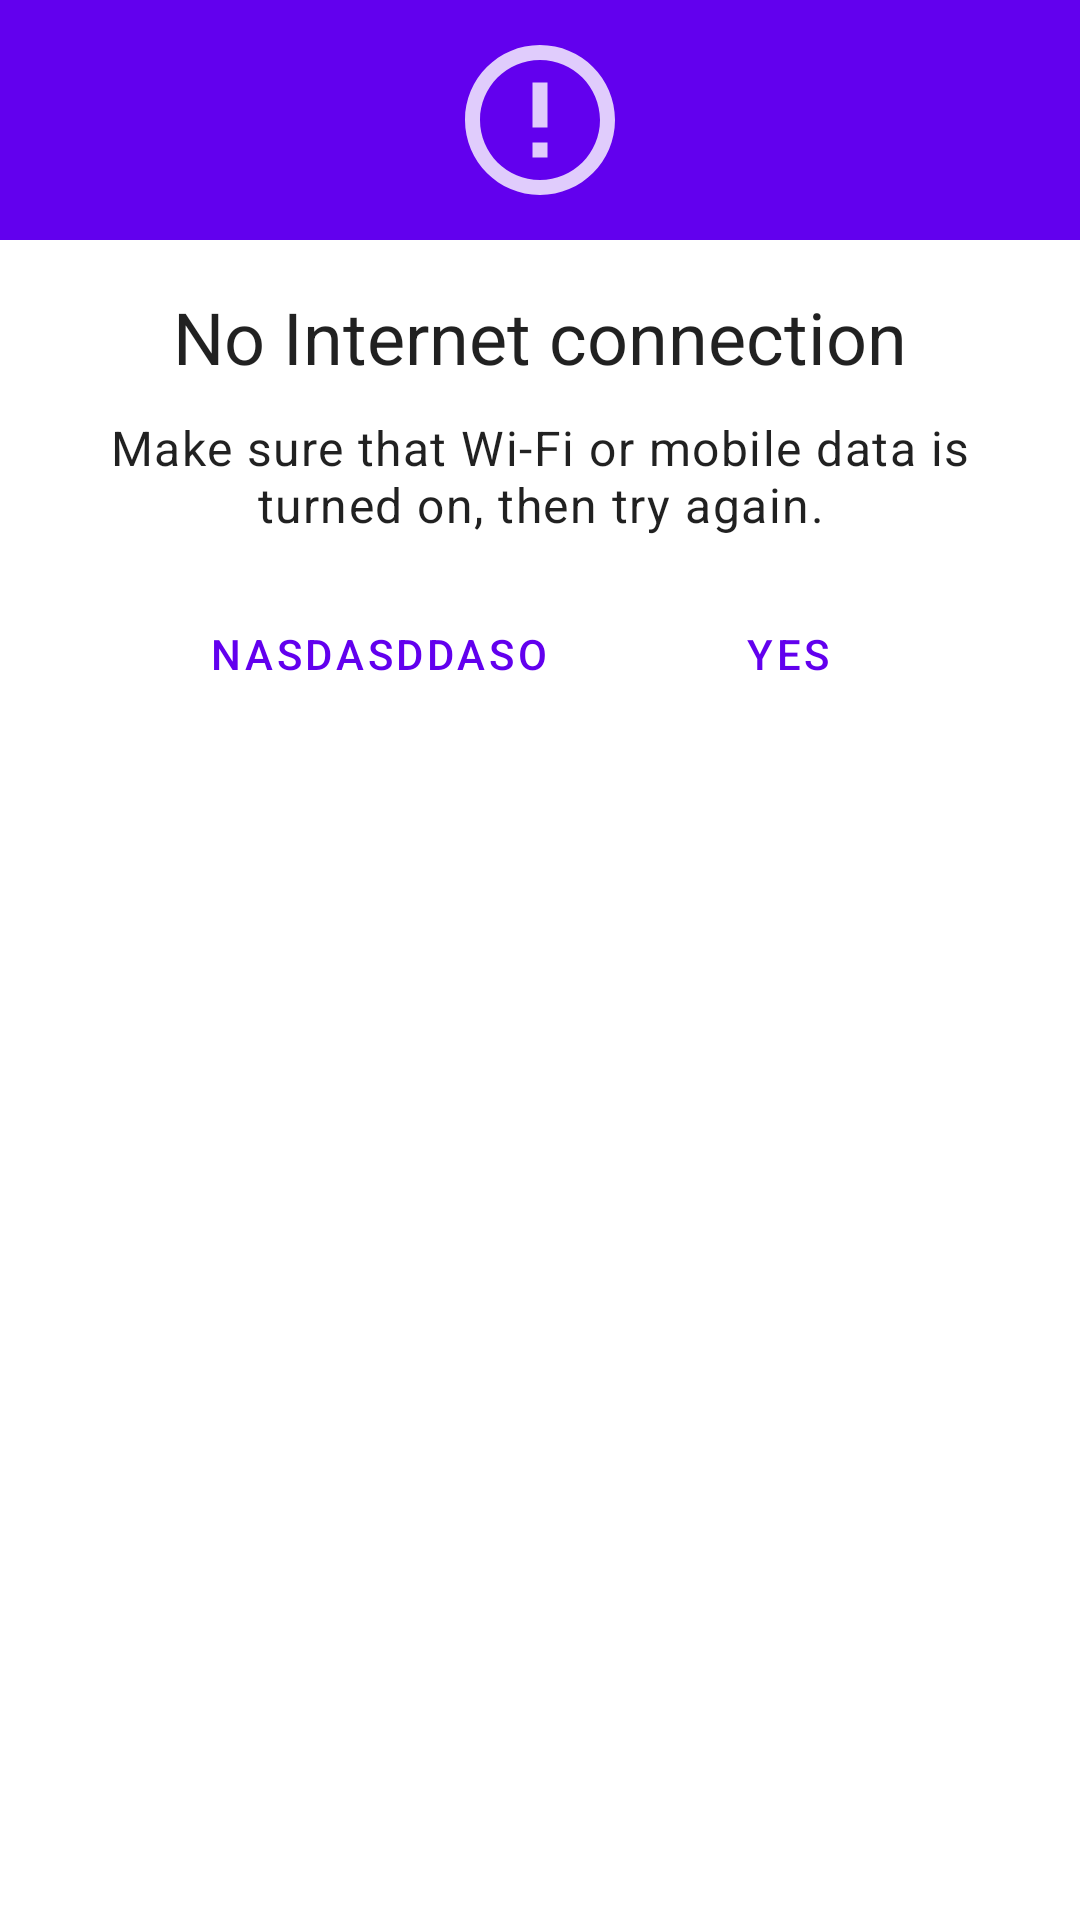

Locate icon controls on the screen. Image size 1080w x 1920h, boxes as [x1,y1,x2,y2].
error: [465,45,615,195]
